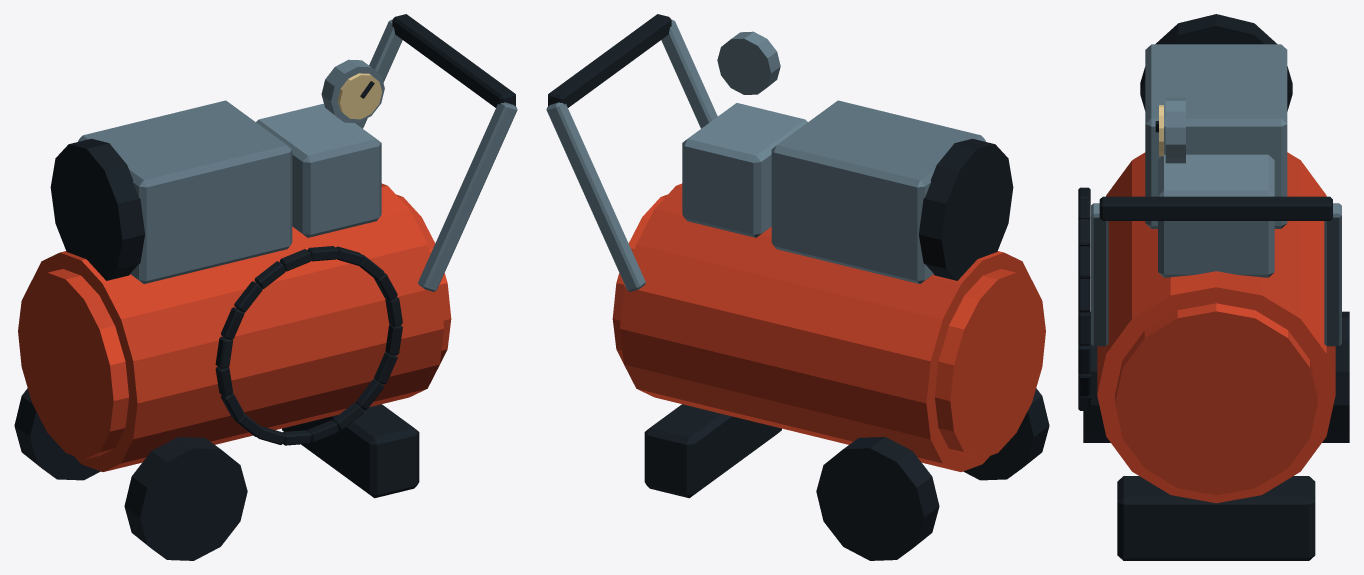
File: EC_AirCompressor.fbx
The picture shows the model from 3 angles, left to right: view 1: azimuth 30°, elevation 25°; view 2: azimuth 150°, elevation 25°; view 3: azimuth 270°, elevation 25°; orthographic projection. The views are drawn at different scales.
Visible parts, largest first — view 1: EC_AirCompressor; view 2: EC_AirCompressor; view 3: EC_AirCompressor.
Part boxes in pixels (box(x1,y1,x2,y2)): EC_AirCompressor: box(14, 14, 517, 560); EC_AirCompressor: box(546, 14, 1049, 560); EC_AirCompressor: box(1078, 14, 1349, 560).
Size of the model in its own units: 0.9575 by 0.96 by 0.5345.
